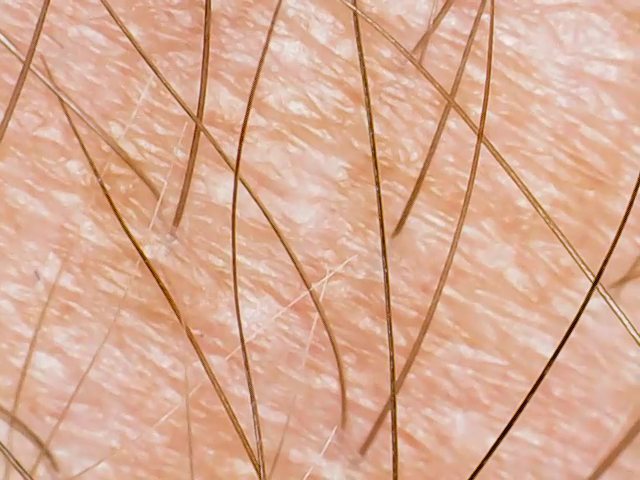folicle: (382, 219, 413, 254), (396, 38, 420, 65), (331, 413, 355, 439), (593, 275, 619, 298), (165, 217, 188, 241), (350, 443, 371, 467), (607, 283, 626, 309), (154, 195, 175, 218), (407, 50, 428, 73)
